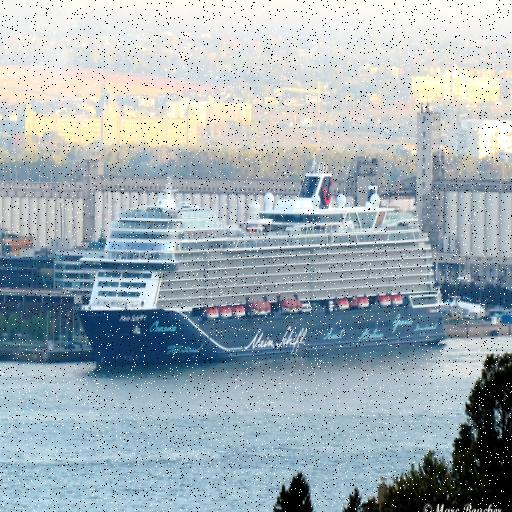cruises: (73, 163, 451, 380)
